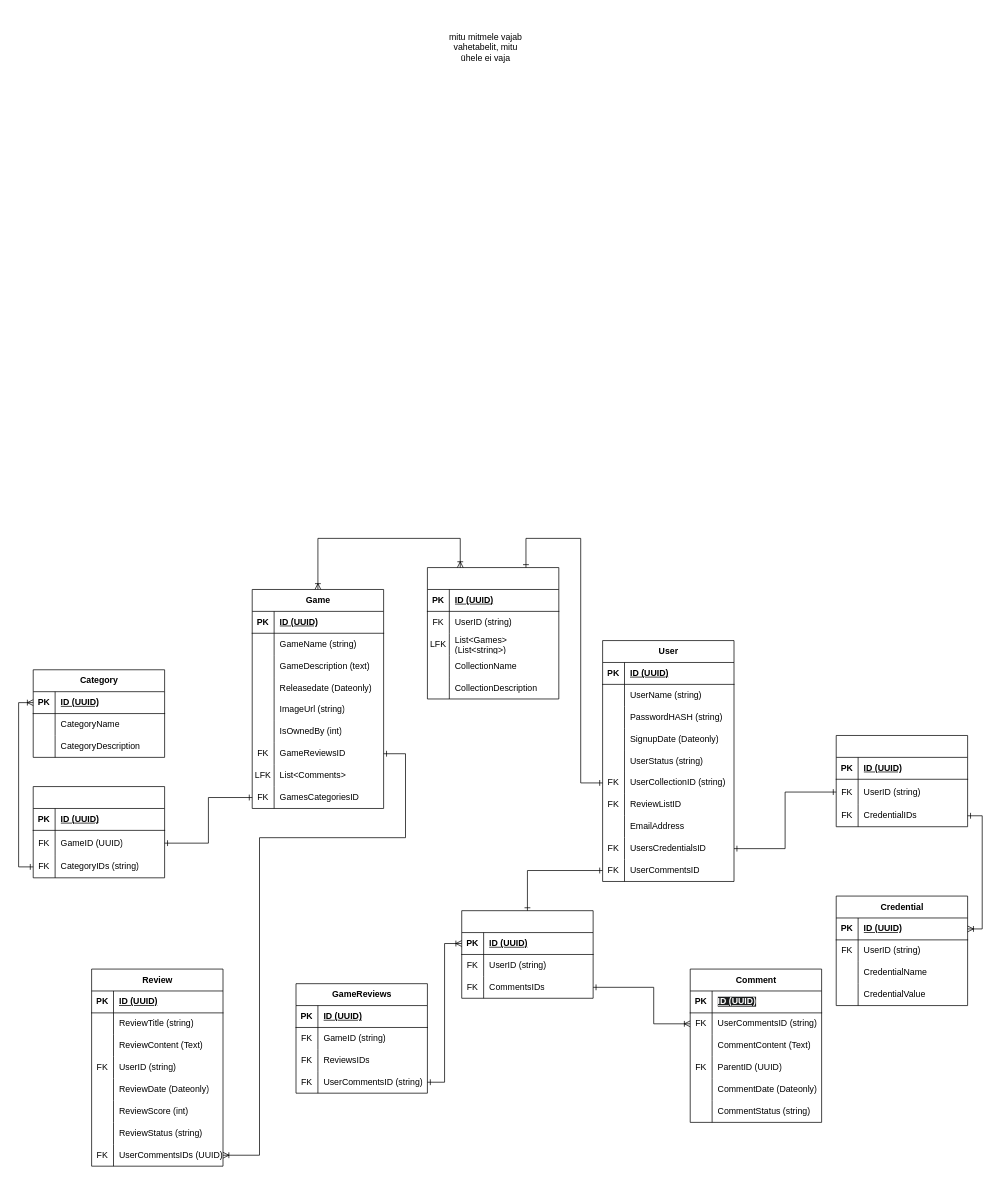
The diagram is 1002 pixels wide and 1179 high, and some of its shapes have lost their labels. Here are the shapes that lost their labels. From the top down, the box of each, then its label:
(427, 567, 559, 699): UserCollection
(835, 735, 968, 827): UsersCredentials
(32, 786, 165, 878): GamesCategorie s
(461, 910, 593, 998): UserComments
